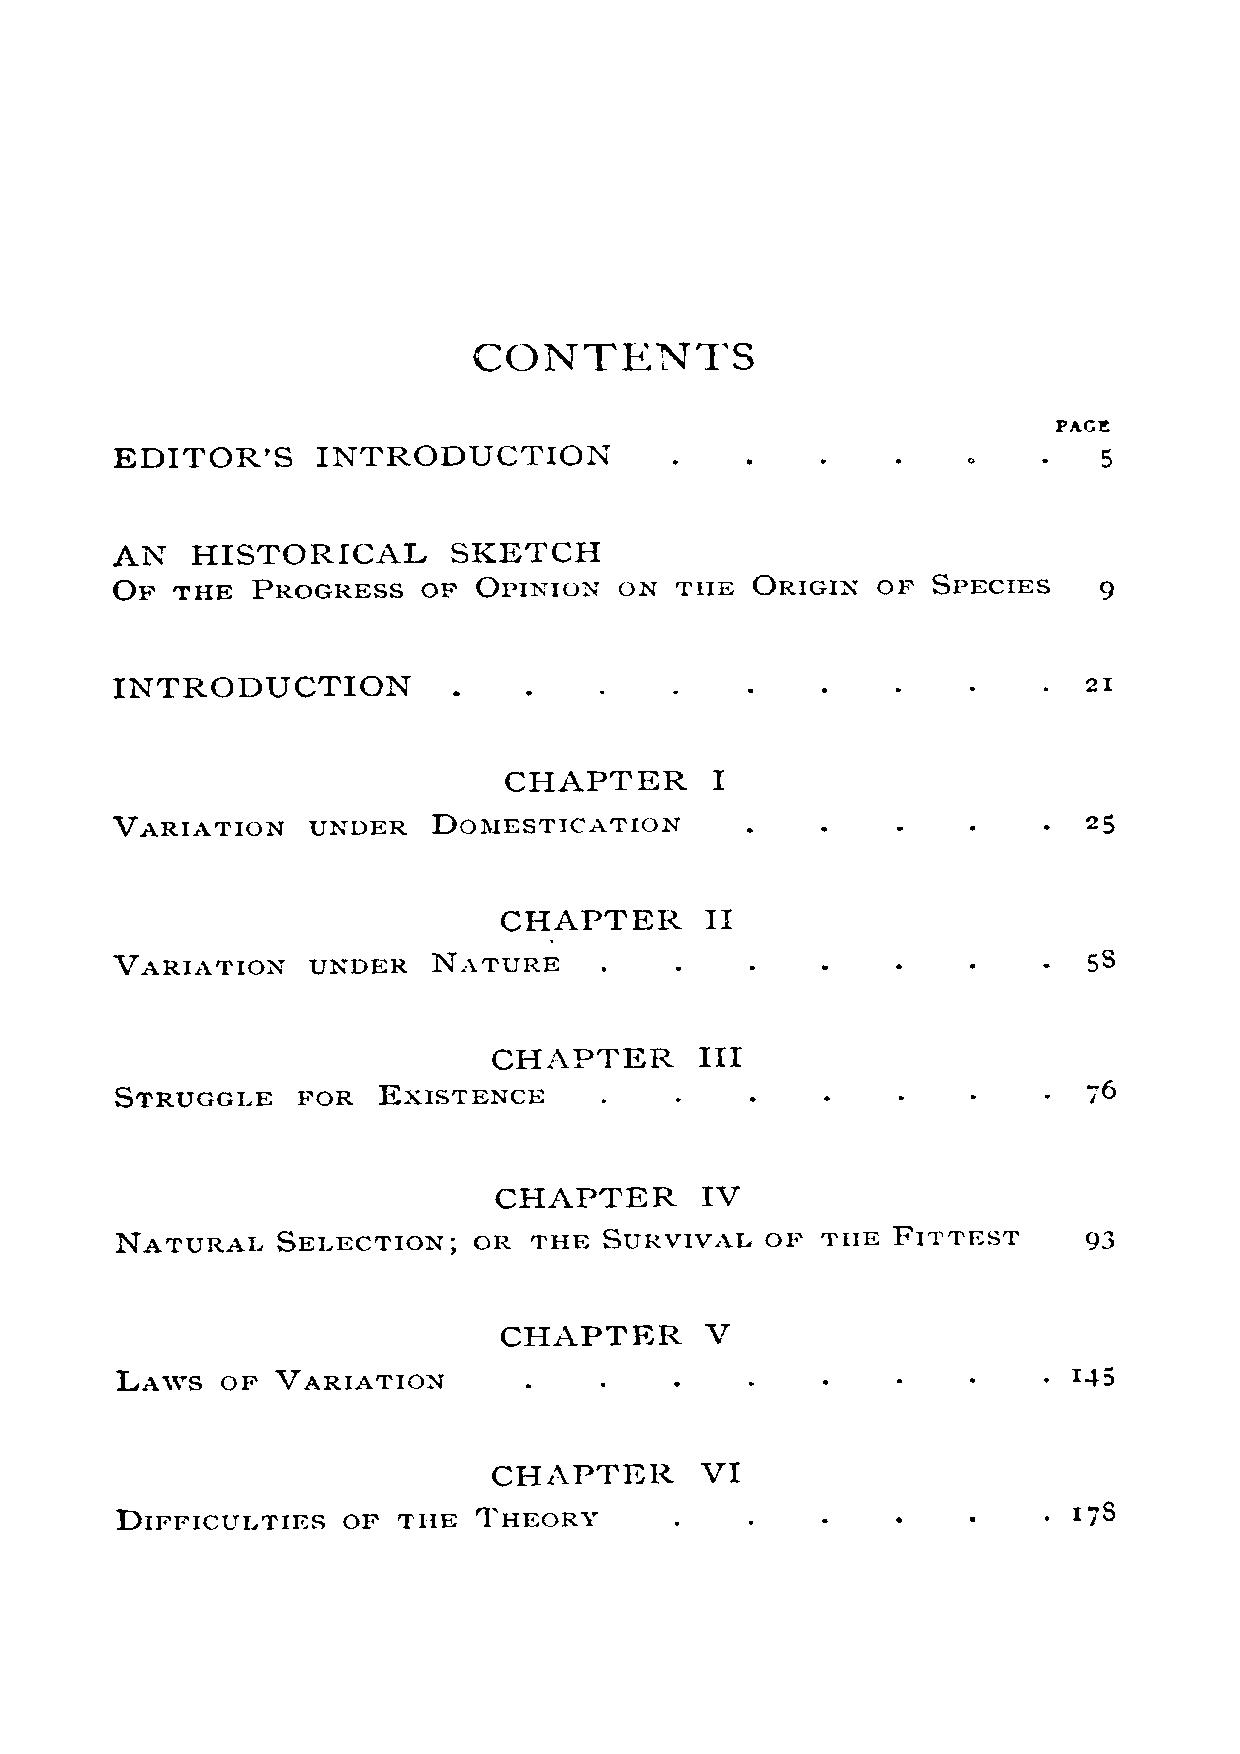TOC_chapter: (111, 538, 1057, 605), (111, 1227, 1025, 1253), (106, 811, 688, 837), (107, 439, 613, 470), (109, 947, 565, 978), (111, 1504, 603, 1533), (109, 1083, 550, 1113), (114, 1363, 451, 1396), (107, 670, 413, 702), (488, 1457, 745, 1491), (488, 1043, 743, 1072), (499, 905, 737, 935), (493, 1181, 741, 1210), (501, 764, 729, 794), (497, 1323, 733, 1349)
TOC_pagenumber: (1066, 1496, 1117, 1529), (1070, 1362, 1119, 1392), (1082, 1223, 1121, 1253), (1082, 945, 1118, 974), (1086, 1074, 1117, 1107), (1080, 811, 1115, 836), (1096, 576, 1119, 609), (1084, 670, 1113, 695), (1094, 444, 1118, 472)
chapter: (468, 337, 756, 374)
